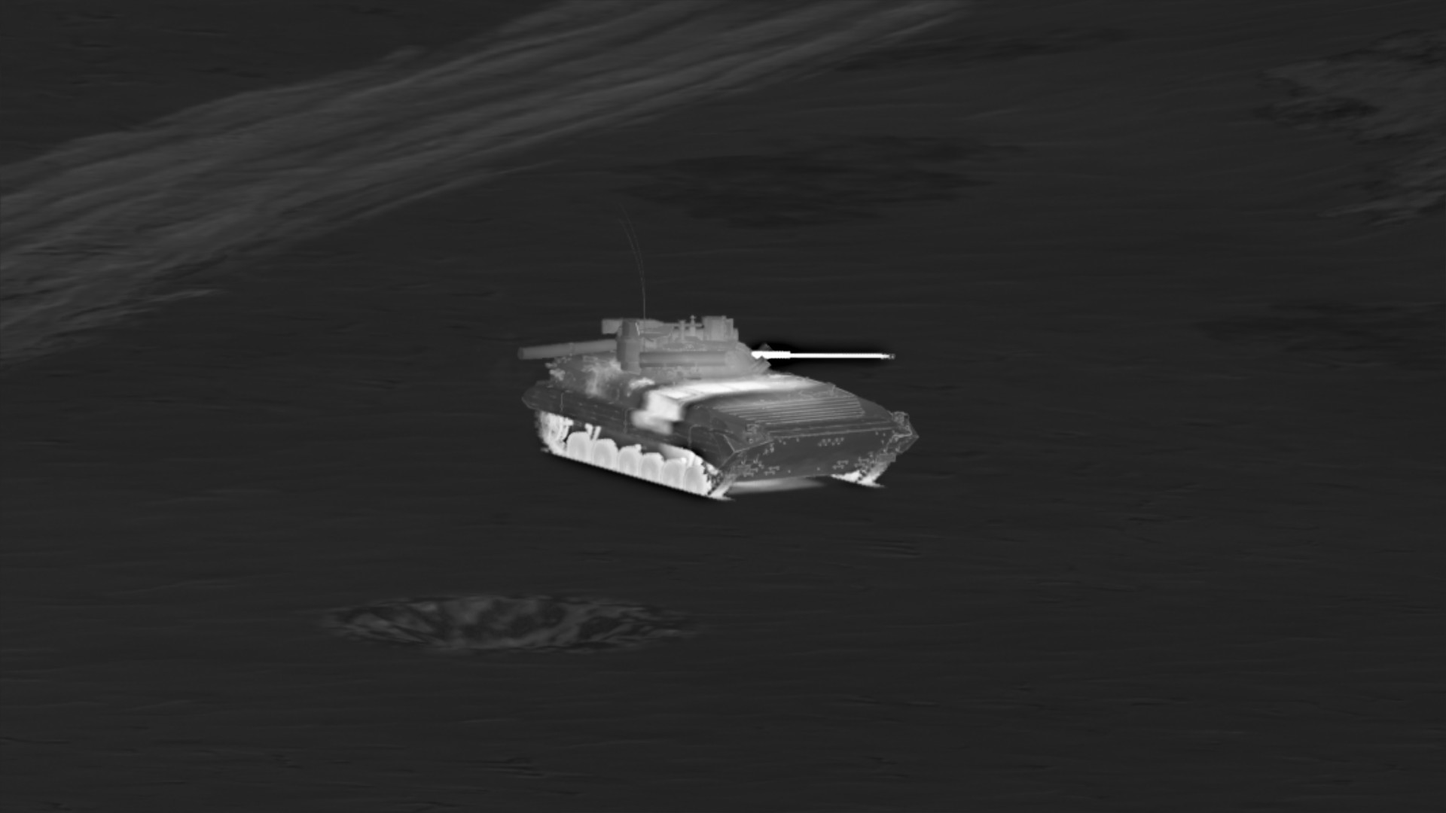bmp2: (517, 317, 920, 499)
